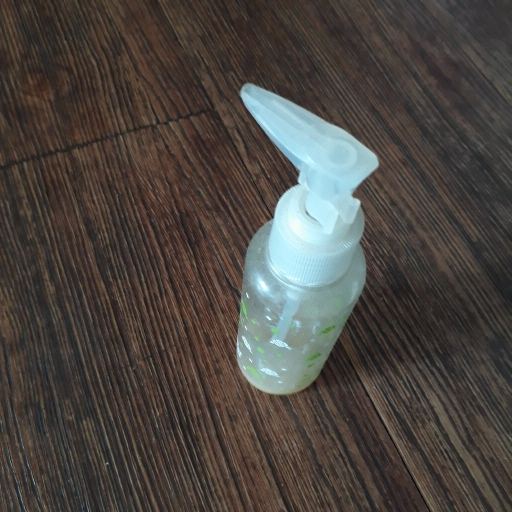Plastic_3: (228, 81, 380, 392)
